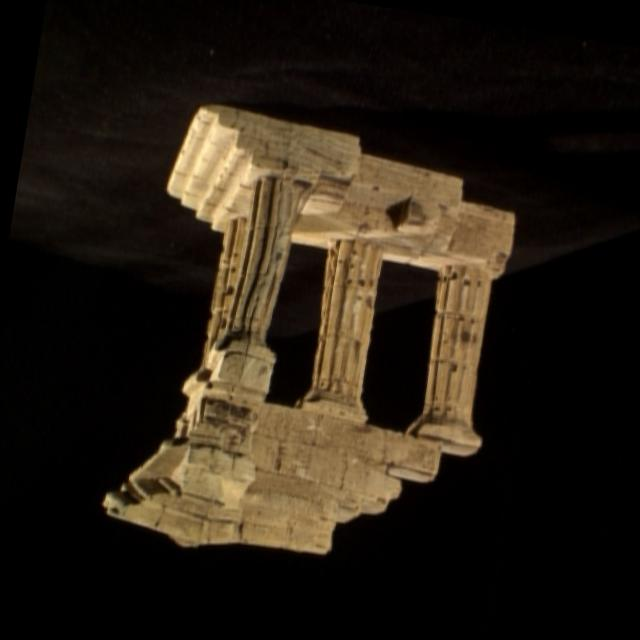Instance-Segmentation: (104, 104, 514, 551)
